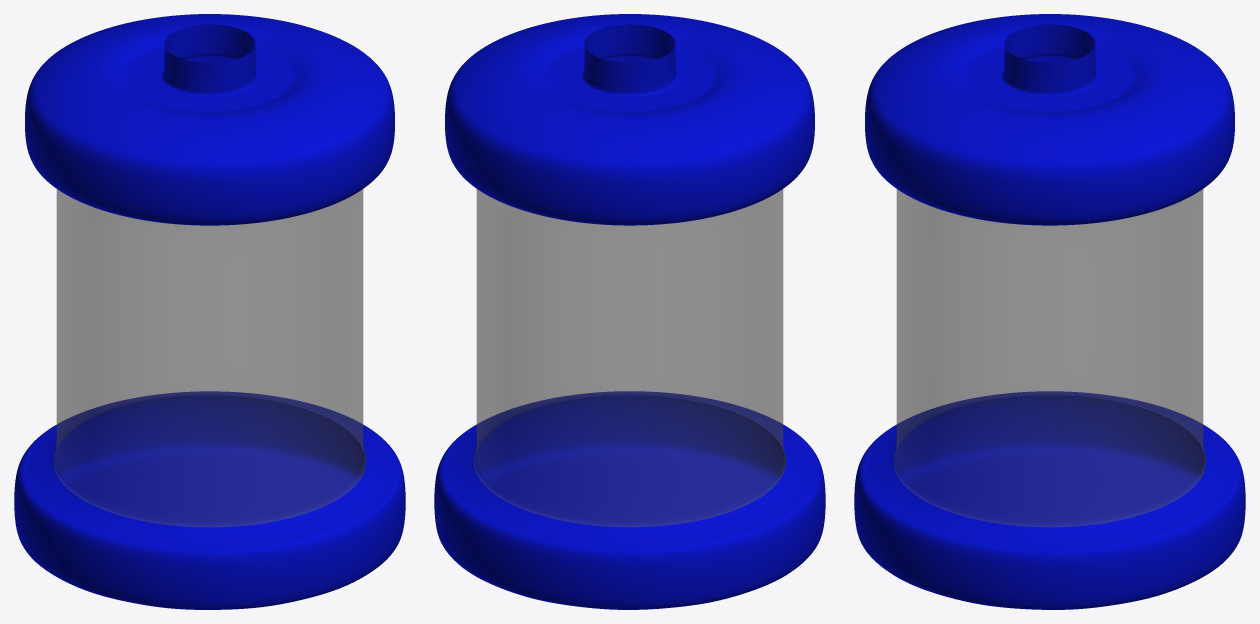
The model's file is HealthPickup.fbx.
3 renders of one model, left to right at view 1: azimuth 30°, elevation 25°; view 2: azimuth 150°, elevation 25°; view 3: azimuth 270°, elevation 25°, orthographic.
Parts seen in each view (by area): view 1: Cylinder; view 2: Cylinder; view 3: Cylinder.
Part boxes in pixels (box(x1,y1,x2,y2)): Cylinder: box(14, 14, 405, 609); Cylinder: box(434, 14, 825, 609); Cylinder: box(854, 14, 1245, 609).
Bounding box in the file's own units: 110 × 151 × 110.
